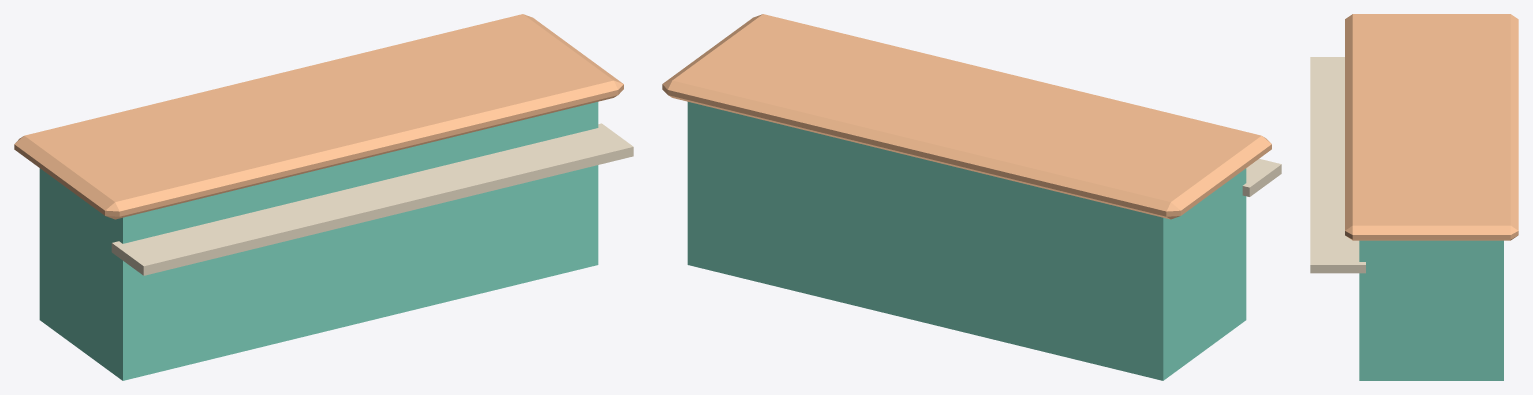
3 renders of one model, left to right at view 1: azimuth 30°, elevation 25°; view 2: azimuth 150°, elevation 25°; view 3: azimuth 270°, elevation 25°, orthographic. The views are drawn at different scales.
Parts seen in each view (by area): view 1: Counter body, Countertop, Visitor shelf; view 2: Counter body, Countertop, Visitor shelf; view 3: Countertop, Counter body, Visitor shelf.
Boxes of the visible parts, x1=… form: Counter body: x1=39, y1=102, x2=598, y2=380; Countertop: x1=14, y1=14, x2=623, y2=219; Visitor shelf: x1=111, y1=123, x2=633, y2=275; Counter body: x1=687, y1=102, x2=1246, y2=380; Countertop: x1=662, y1=14, x2=1271, y2=219; Visitor shelf: x1=1242, y1=158, x2=1281, y2=196; Countertop: x1=1345, y1=14, x2=1518, y2=240; Counter body: x1=1359, y1=240, x2=1503, y2=380; Visitor shelf: x1=1310, y1=57, x2=1365, y2=273.
Bounding box in the file's own units: 2.34 × 0.795 × 0.935.
1 material, 1 textured.
